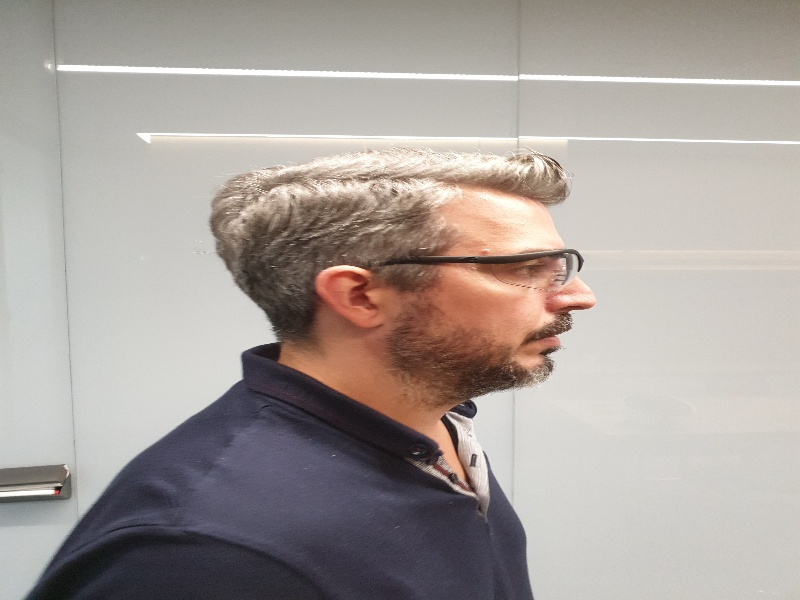Gozluk: (376, 249, 585, 289)
